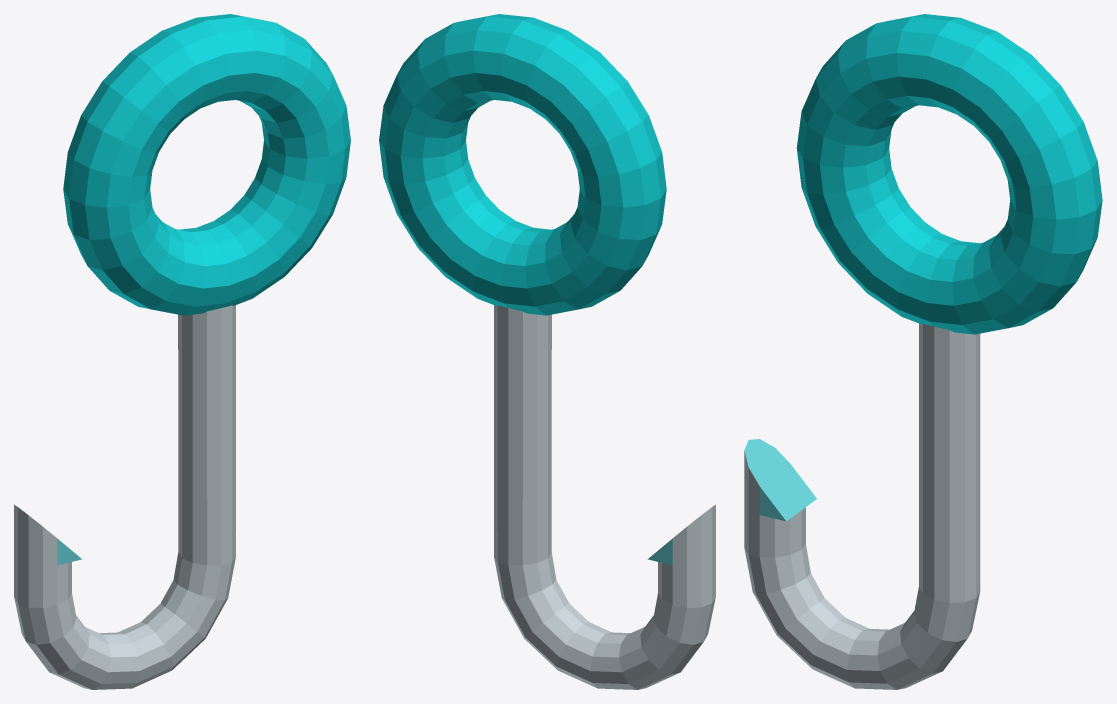
The model's file is Fishing_Hook.fbx.
3 renders of one model, left to right at view 1: azimuth 30°, elevation 25°; view 2: azimuth 150°, elevation 25°; view 3: azimuth 330°, elevation 25°, orthographic. The views are drawn at different scales.
Visible parts, largest first — view 1: FishingHook; view 2: FishingHook; view 3: FishingHook.
Part boxes in pixels (x1,y1,x2,y2): FishingHook: (14,14,350,689); FishingHook: (379,14,715,689); FishingHook: (744,14,1102,689).
Size of the model in its own units: 52.16 by 98.44 by 12.
